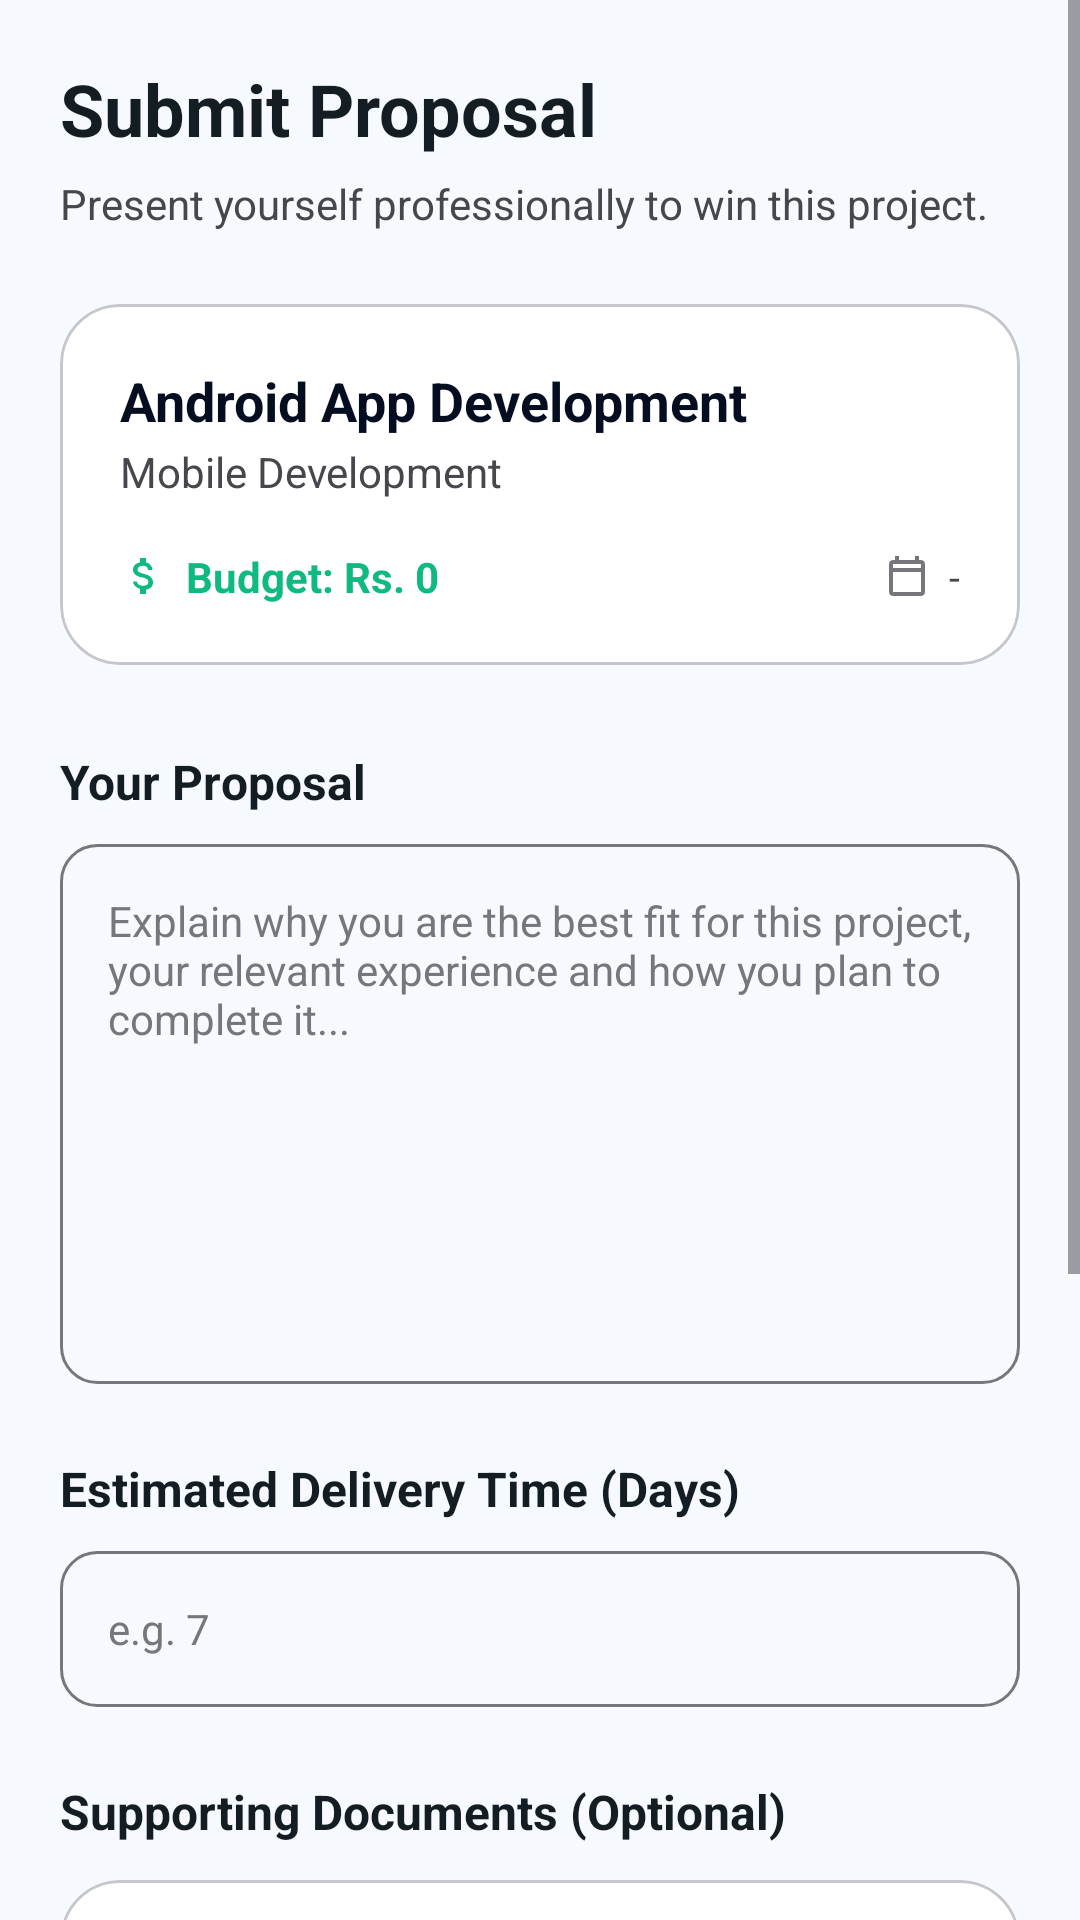

Named icons in this screenshot (1080px×1920px) and their bounding boxes, (x1, y1, x2, y2):
calendar: (889, 556, 925, 596)
money: (133, 558, 153, 594)
